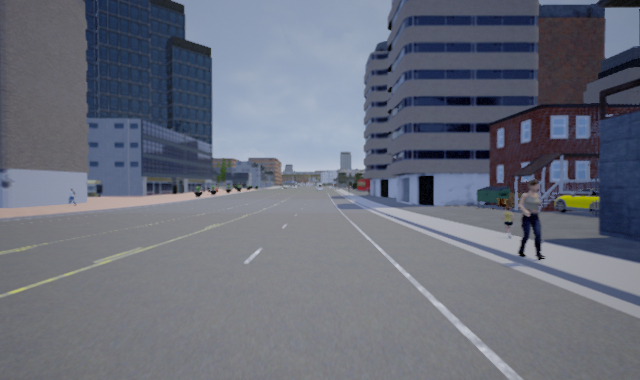pedestrian: (517, 179, 545, 260), (501, 203, 516, 240), (65, 187, 78, 206)
vehicle: (552, 187, 609, 215)
